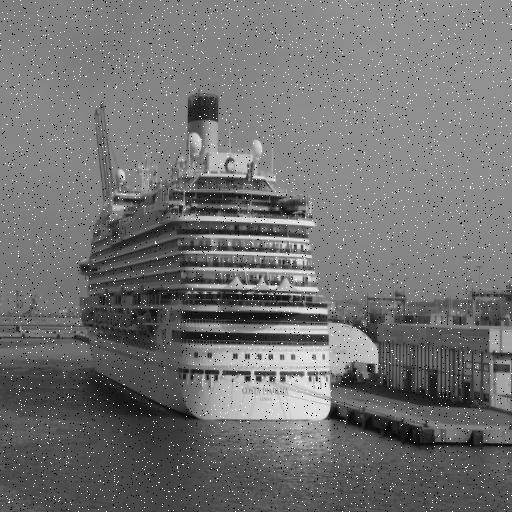cruises: (77, 86, 342, 426)
